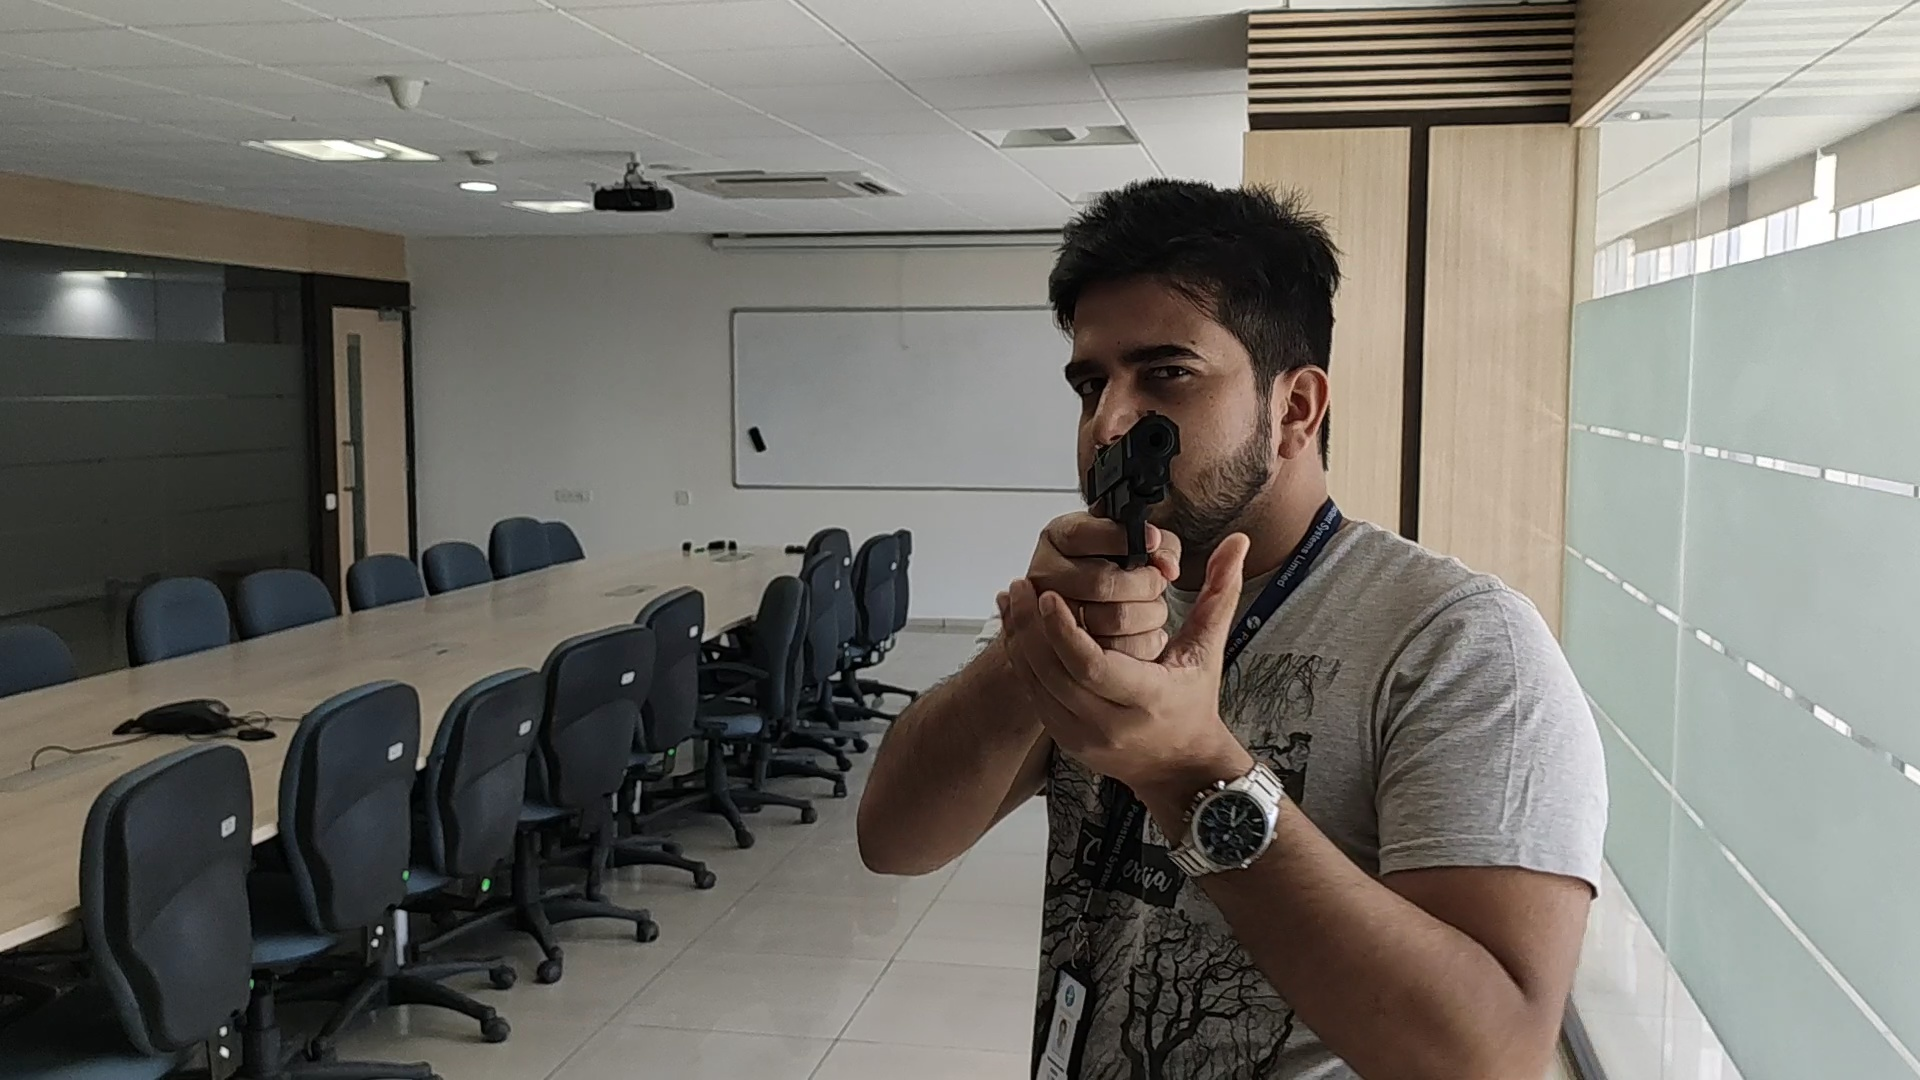gun: (1084, 415, 1182, 527)
